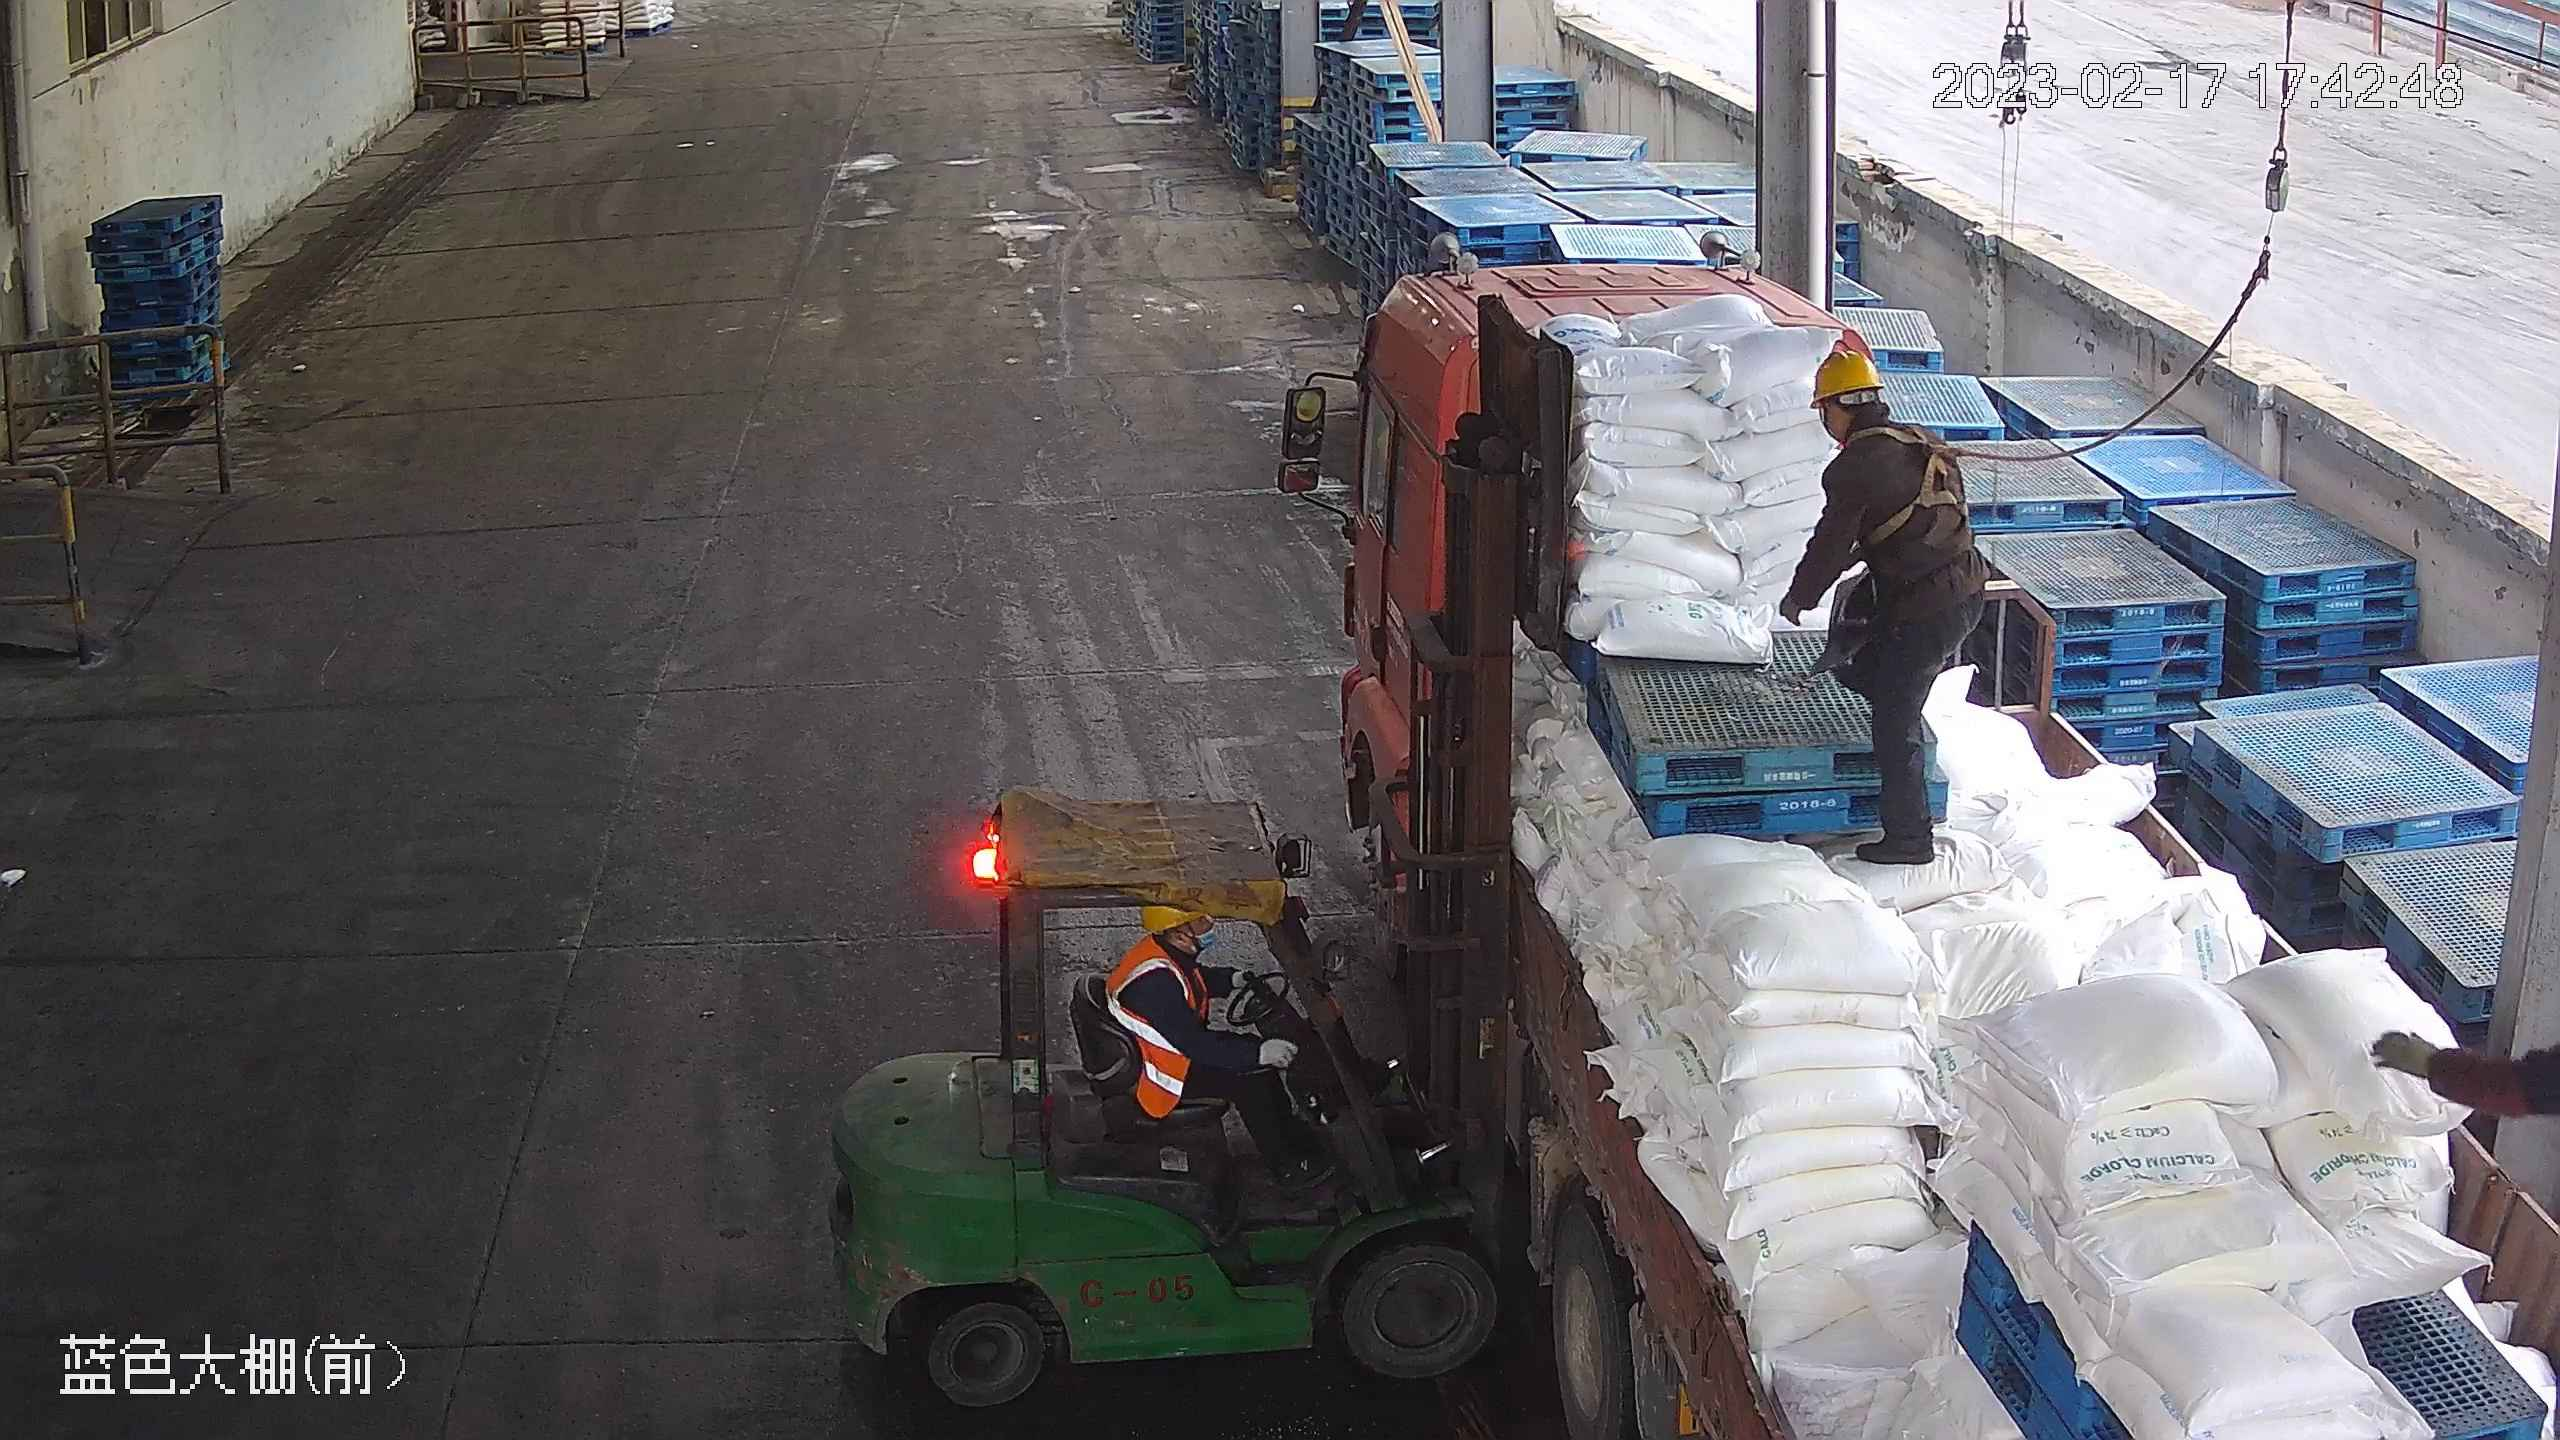head: (1807, 344, 1965, 524), (1106, 901, 1242, 1060)
helmet: (1849, 421, 1987, 543), (1811, 346, 1887, 408)
people: (1785, 345, 1994, 870), (1109, 900, 1345, 1196)
truck: (1273, 252, 2560, 1440)
